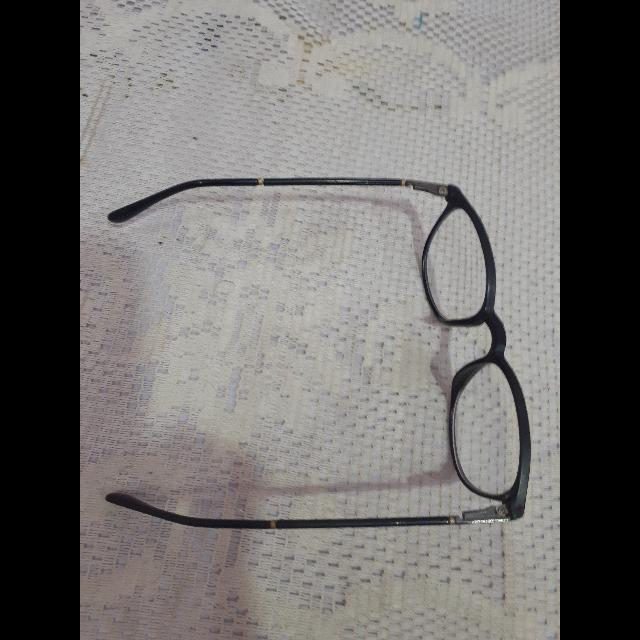glasses: (100, 166, 534, 538), (116, 170, 124, 468)
